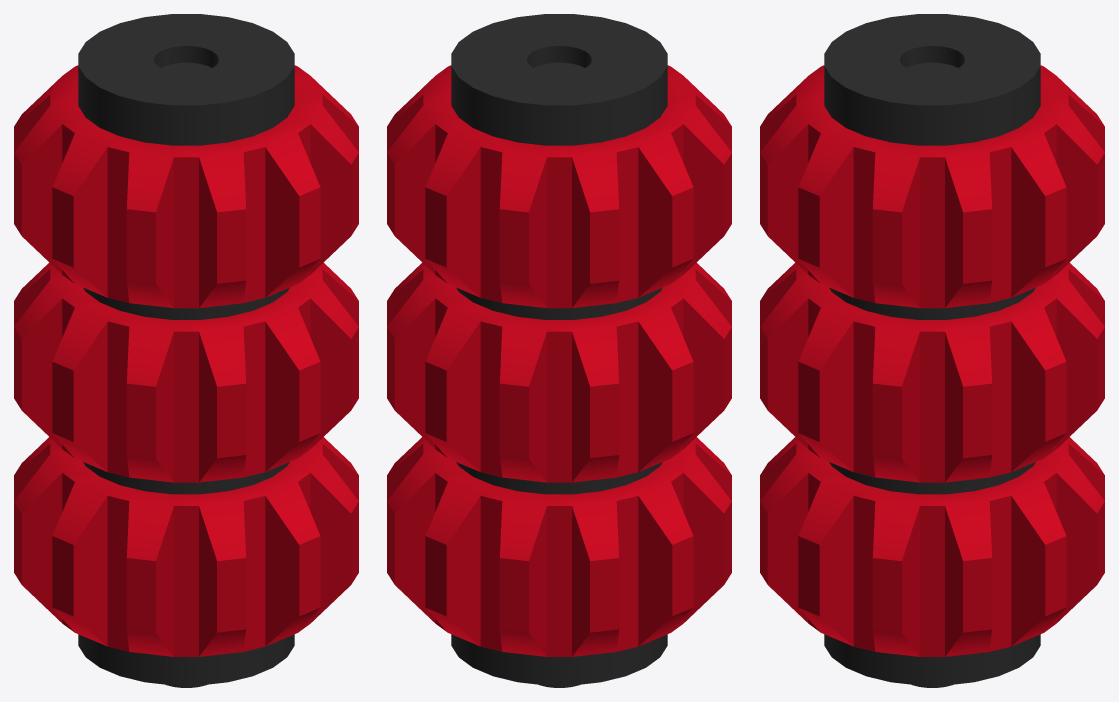
The model's file is Vertical_shreder.fbx.
The picture shows the model from 3 angles, left to right: view 1: azimuth 30°, elevation 25°; view 2: azimuth 150°, elevation 25°; view 3: azimuth 270°, elevation 25°; orthographic projection.
Parts seen in each view (by area): view 1: Gear.002; view 2: Gear.002; view 3: Gear.002.
Boxes of the visible parts, bbox=[...] form: Gear.002: bbox=[14, 14, 358, 687]; Gear.002: bbox=[387, 14, 731, 687]; Gear.002: bbox=[760, 14, 1104, 687].
Size of the model in its own units: 231 by 455 by 231.
